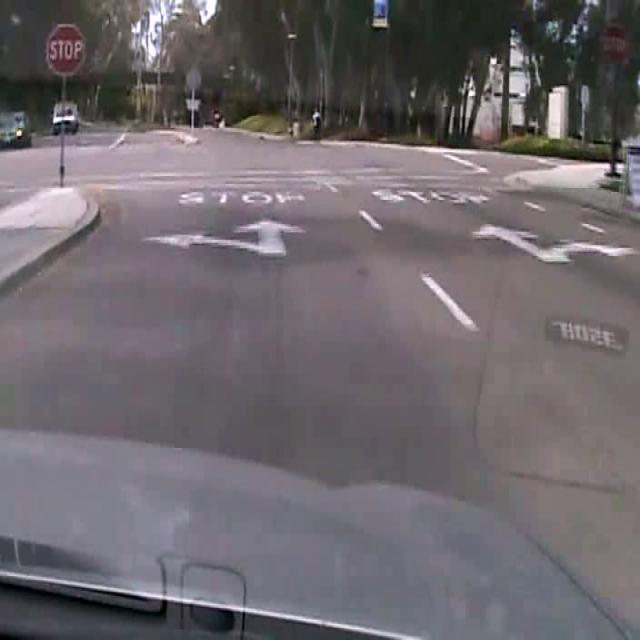stop_sign: (46, 23, 85, 77)
